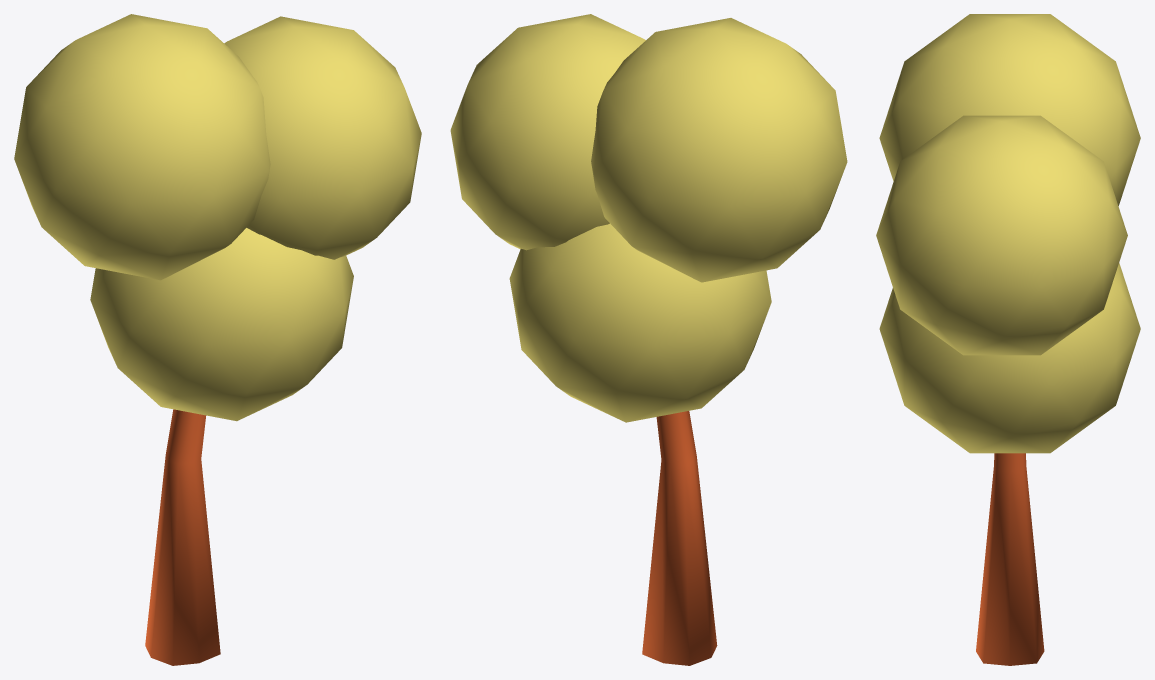
File: Tree_001.fbx
3 renders of one model, left to right at view 1: azimuth 30°, elevation 25°; view 2: azimuth 150°, elevation 25°; view 3: azimuth 270°, elevation 25°, orthographic. The views are drawn at different scales.
Parts seen in each view (by area): view 1: Tree_001; view 2: Tree_001; view 3: Tree_001.
Part boxes in pixels (left/top/right/bottom): Tree_001: left=14, top=14, right=421, bottom=665; Tree_001: left=450, top=14, right=847, bottom=665; Tree_001: left=876, top=14, right=1140, bottom=665.
Bounding box in the file's own units: 1514 × 2530 × 987.
